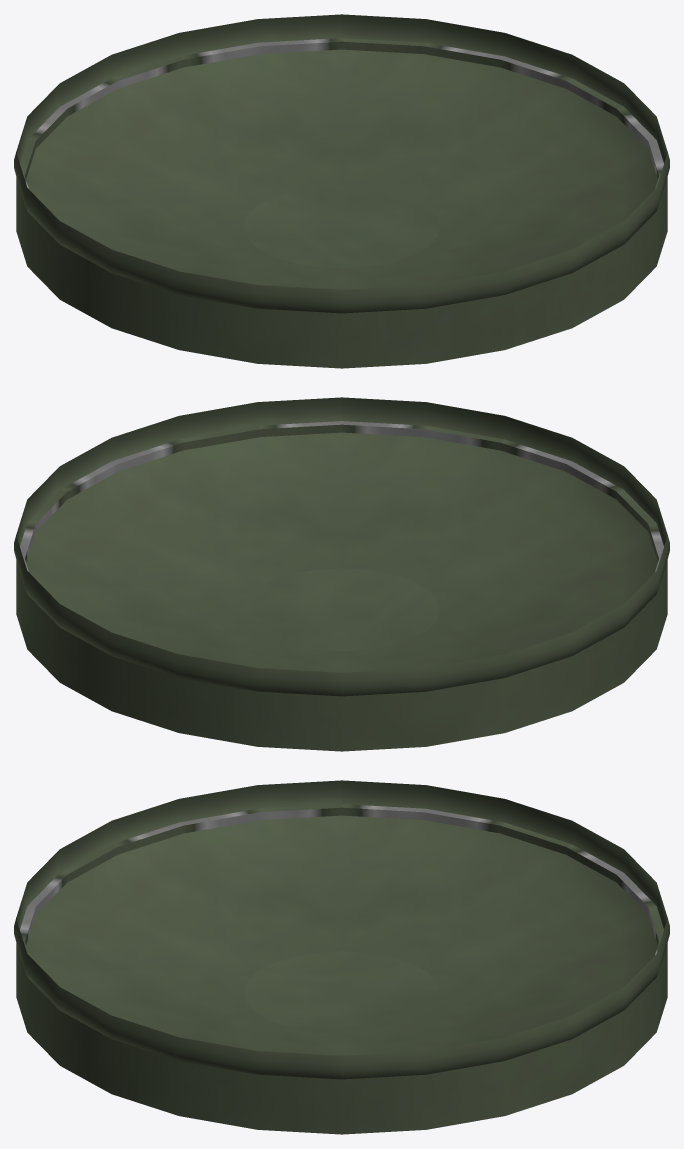
Rendered from heatshield.fbx.
The picture shows the model from 3 angles, top to bottom: view 1: azimuth 30°, elevation 25°; view 2: azimuth 150°, elevation 25°; view 3: azimuth 270°, elevation 25°; orthographic projection.
Visible parts, largest first — view 1: mesh, fairing; view 2: mesh, fairing; view 3: mesh, fairing.
Part boxes in pixels (box(x1,y1,x2,y2)): mesh: box(14, 14, 669, 313); fairing: box(16, 38, 667, 368); mesh: box(14, 397, 669, 696); fairing: box(16, 421, 667, 751); mesh: box(14, 780, 669, 1079); fairing: box(16, 804, 667, 1134).
Size of the model in its own units: 1.89 by 0.25 by 1.89.
